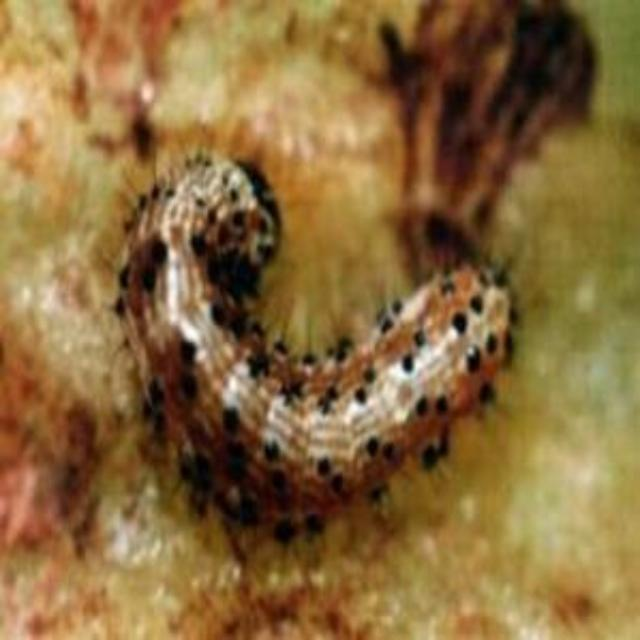Cotton bollworm: (76, 116, 550, 542)
